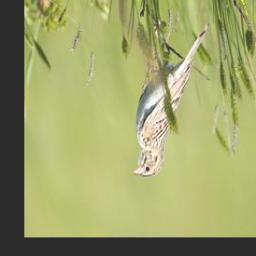Sparrow: (132, 20, 211, 180)
